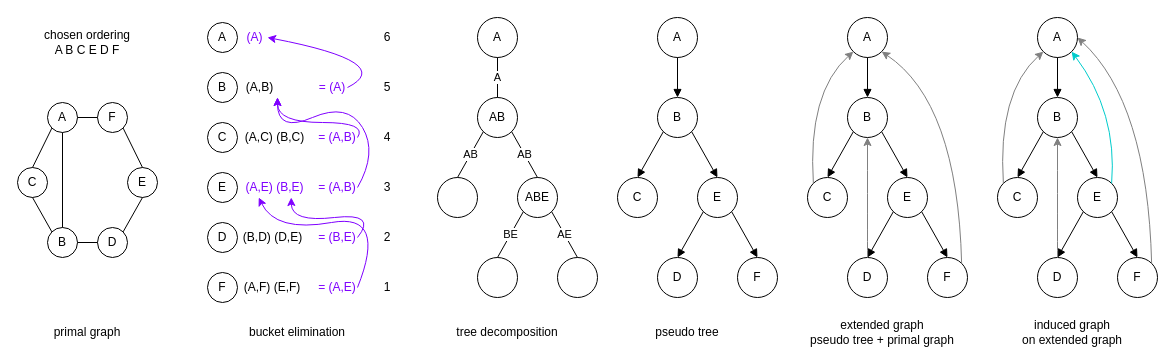
Image size: 1175x364. Some labels were removed from this diagram. The shapes that lost their labels are listed below. From the top down, each one's centre as x and y in pixels, then its label:
At point (457, 197): "ABC".
At point (497, 277): "BDE".
At point (577, 277): "AEF".
